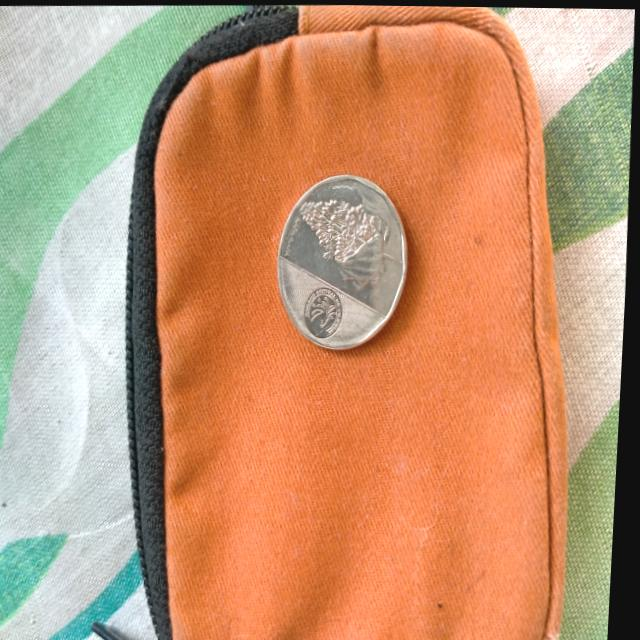10_New_Back: (289, 197, 402, 294)
